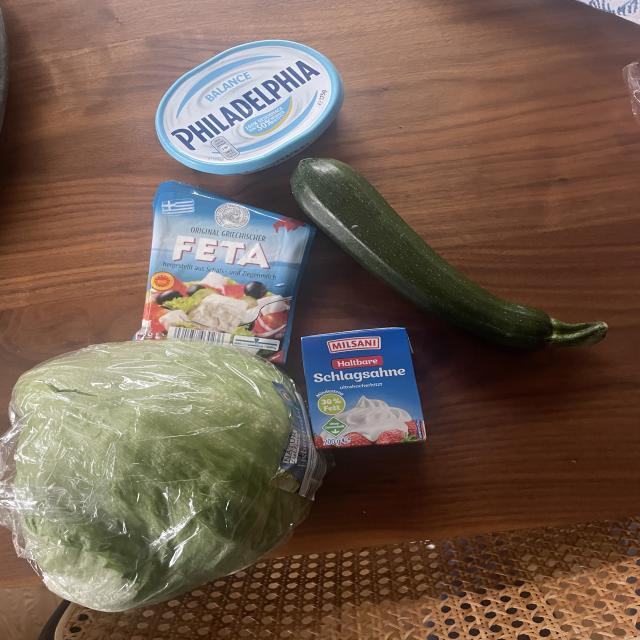cabbage: (1, 343, 323, 614)
zucchini: (273, 162, 609, 355)
